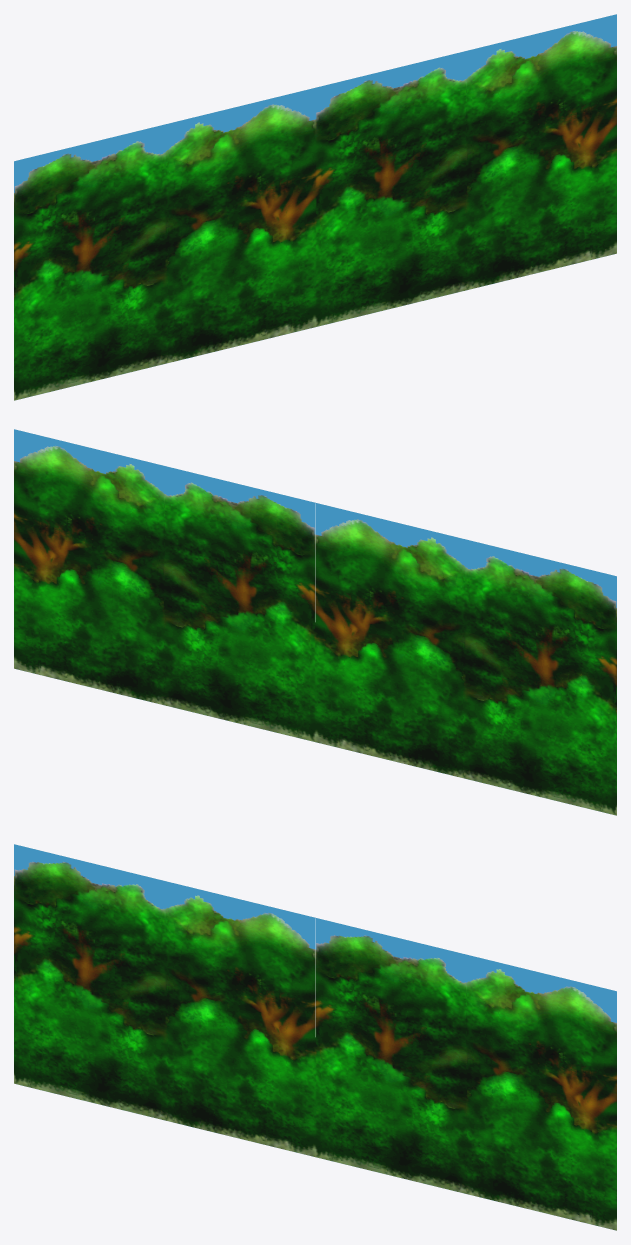
The picture shows the model from 3 angles, top to bottom: view 1: azimuth 30°, elevation 25°; view 2: azimuth 150°, elevation 25°; view 3: azimuth 330°, elevation 25°; orthographic projection.
Visible parts, largest first — view 1: Object19; view 2: Object19; view 3: Object19.
Boxes of the visible parts, x1,y1,x2,y2 form: Object19: (14, 14, 616, 400); Object19: (14, 429, 616, 815); Object19: (14, 844, 616, 1230).
Bounding box in the file's own units: 4874 × 1850 × 0.00195.
1 material, 1 textured.
